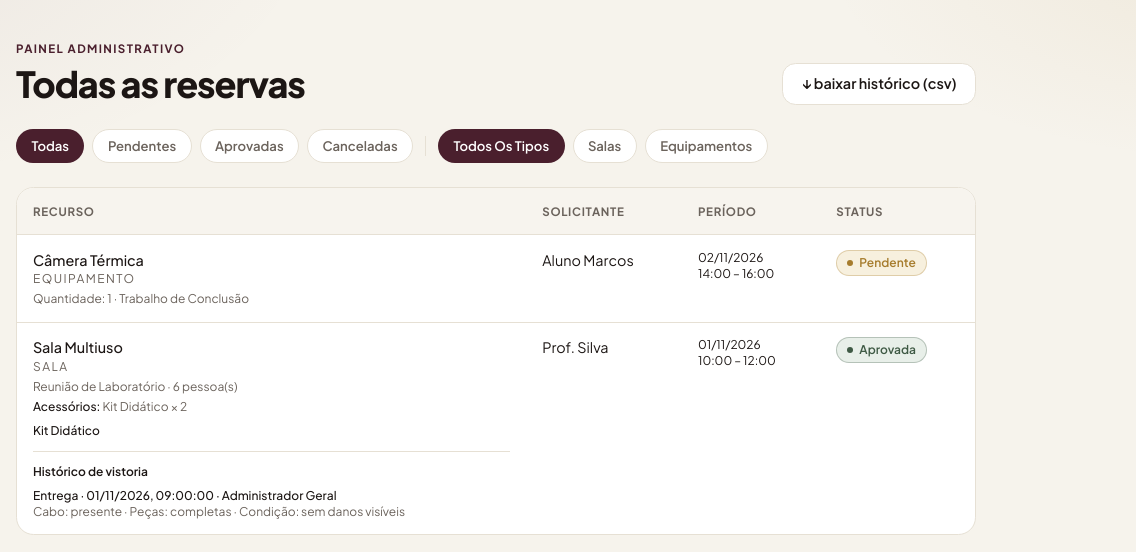
it: AdminReservas Page › filtra reservas por status (apenas pendentes)
Expected: the text "Sala Multiuso" is shown, [33, 338, 123, 356]
Step 1. Click the button "Pendentes" → (142, 146), box [92, 129, 192, 163]
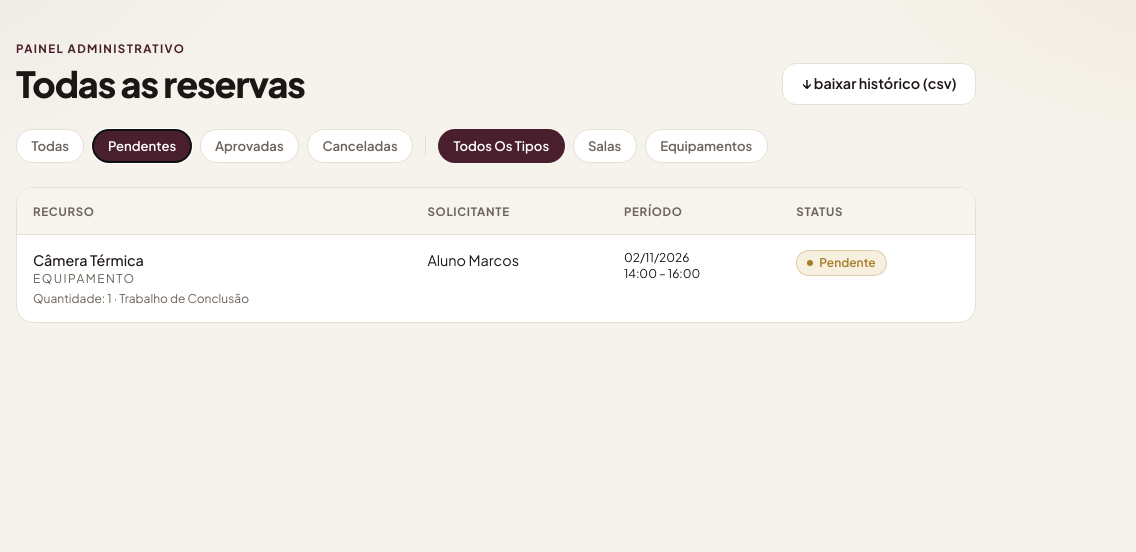
Expected: the text "Câmera Térmica" is shown, [33, 251, 144, 269]
Result: the text "Sala Multiuso" is gone
